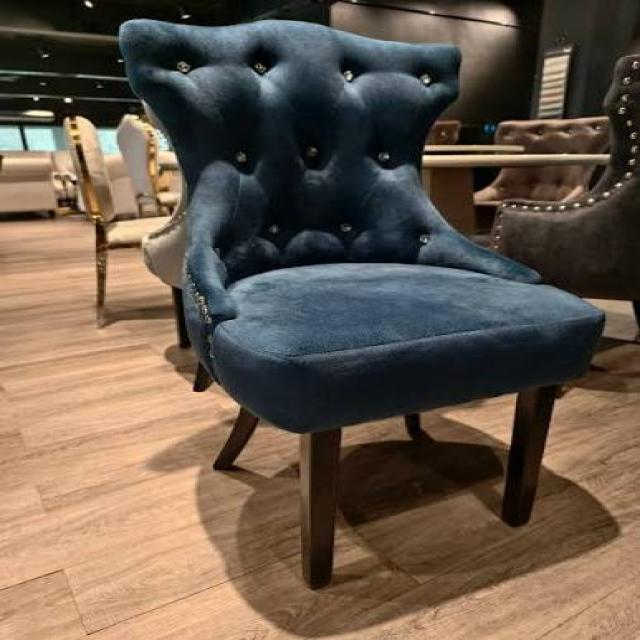Chair: (109, 12, 621, 614)
